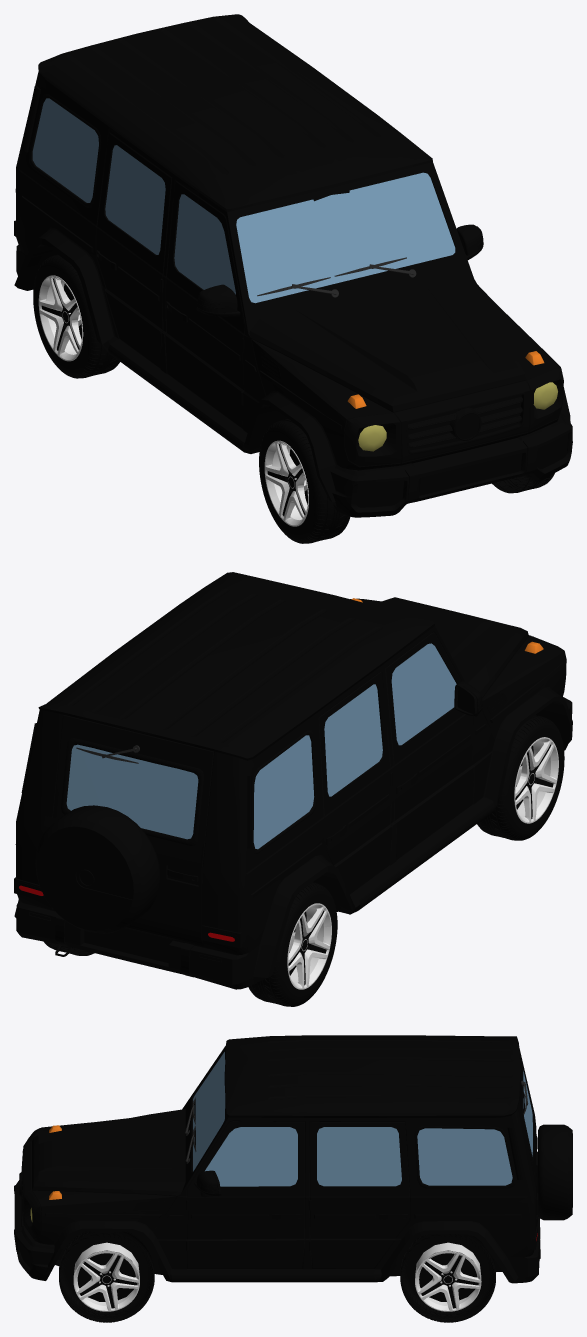
The model's file is 5465454.fbx_Scene_Scene_Collection.fbx.
3 renders of one model, top to bottom at view 1: azimuth 30°, elevation 25°; view 2: azimuth 150°, elevation 25°; view 3: azimuth 270°, elevation 25°, orthographic. The views are drawn at different scales.
Visible parts, largest first — view 1: body; view 2: body; view 3: body.
Boxes of the visible parts, left/top/right/bottom form: body: left=14, top=14, right=572, bottom=543; body: left=14, top=572, right=572, bottom=1006; body: left=14, top=1035, right=572, bottom=1322.
Size of the model in its own units: 131 by 126 by 298.
